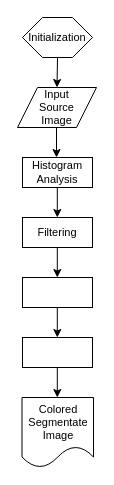
Image size: 114x485. Some labels were removed from this diagram. Here are the shapes that lost their labels. From the top down, the centre of each, then its label:
At [57,292]: "Morphology".
At [57,352]: "Contouring".
